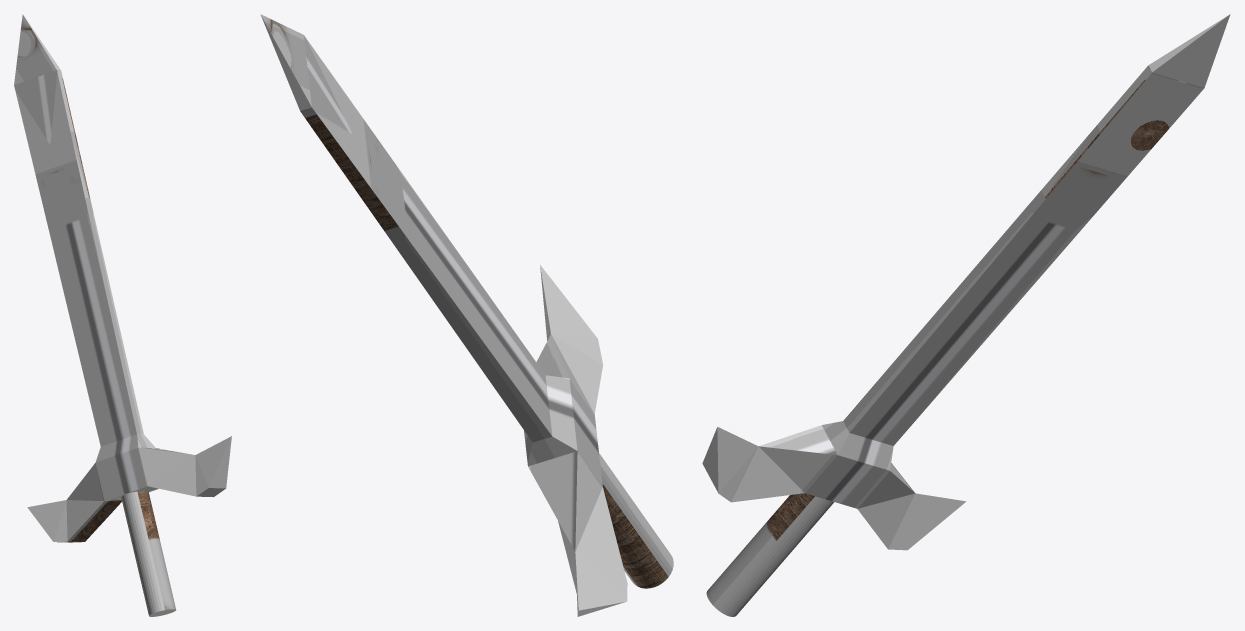
Rendered from Protagonista117.obj.
The picture shows the model from 3 angles, left to right: view 1: azimuth 30°, elevation 25°; view 2: azimuth 150°, elevation 25°; view 3: azimuth 270°, elevation 25°; orthographic projection. The views are drawn at different scales.
Parts seen in each view (by area): view 1: Cube; view 2: Cube; view 3: Cube.
Part boxes in pixels (x1=…): Cube: x1=14, y1=14, x2=231, y2=616; Cube: x1=260, y1=14, x2=673, y2=616; Cube: x1=702, y1=14, x2=1230, y2=616.
Size of the model in its own units: 0.3724 by 1.42 by 1.08.
1 material, 1 textured.
